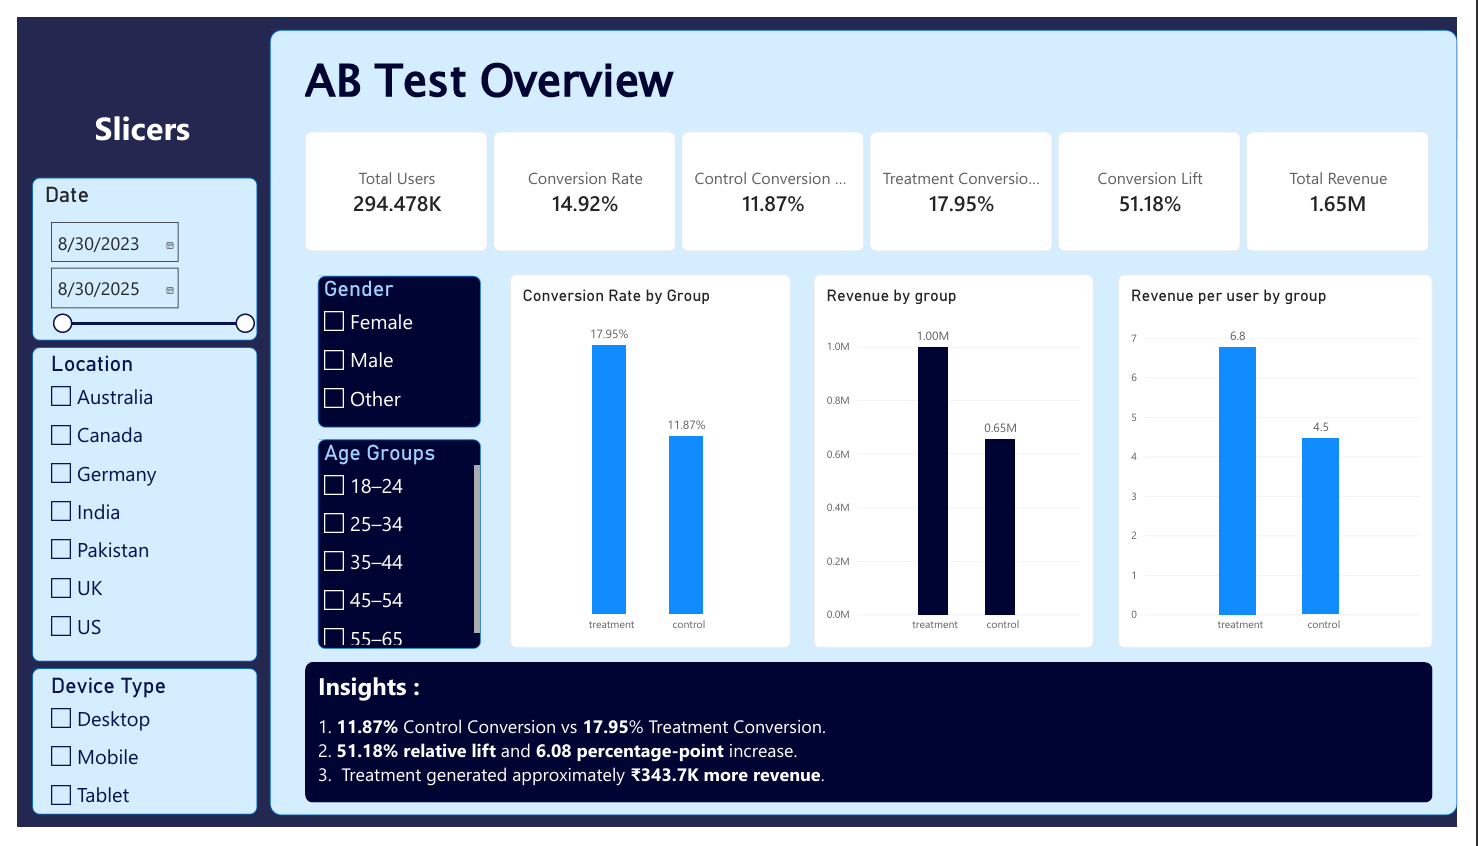

The dashboard page shown, as its layout file describes it:
{"tool":"powerbi","page":{"name":"AB Test Overview","canvas":[1920,1080],"ordinal":0},"visuals":[{"type":"shape","box":[336.2,15.9,1583.1,1047.1],"z":0},{"type":"textbox","box":[382.9,40.4,499.7,93.1],"z":1000},{"type":"cardVisual","fields":{"Data":["Count(AB Testing Data.user_id)","AB Testing Data.Conversion Rate","AB Testing Data.Control Conversion Rate","AB Testing Data.Treatment Conversion Rate","AB Testing Data.Conversion Lift","Sum(AB Testing Data.purchase_amount)"]},"box":[382.9,152.2,1503,159.3],"z":2000},{"type":"clusteredColumnChart","title":"Conversion Rate by Group","fields":{"Category":["AB Testing Data.group"],"Y":["AB Testing Data.Conversion Rate"]},"box":[656.4,342.5,373.4,497],"z":3000},{"type":"clusteredColumnChart","title":"Revenue by group","fields":{"Category":["AB Testing Data.group"],"Y":["Sum(AB Testing Data.purchase_amount)"]},"box":[1060.7,342.5,373.4,497],"z":4000},{"type":"clusteredColumnChart","fields":{"Category":["AB Testing Data.group"],"Y":["AB Testing Data.Revenue per user"]},"box":[1467.4,342.5,418.6,497],"z":5000},{"type":"shape","box":[400.4,343.7,216.4,202.1],"z":6000},{"type":"shape","box":[19,213.3,299.7,216.4],"z":7000},{"type":"slicer","fields":{"Values":["AB Testing Data.gender"]},"box":[400.4,343.7,178.4,202.1],"z":8000},{"type":"shape","box":[400.4,562.5,216.4,278.3],"z":9000},{"type":"slicer","fields":{"Values":["AB Testing Data.Age Group"]},"box":[400.4,562.5,216.4,273.5],"z":10000},{"type":"slicer","title":"Date","fields":{"Values":["AB Testing Data.date"]},"box":[35.7,218,283,216.4],"z":11000},{"type":"shape","box":[19,867.1,299.7,195],"z":12000},{"type":"shape","box":[19,439.4,299.7,418.6],"z":13000},{"type":"slicer","fields":{"Values":["AB Testing Data.location"]},"box":[35.7,443.7,299.7,418.6],"z":14000},{"type":"slicer","fields":{"Values":["AB Testing Data.device_type"]},"box":[35.7,872.6,299.7,195],"z":15000},{"type":"textbox","box":[102.3,116.5,166.5,71.3],"z":16000},{"type":"shape","box":[382.9,858.5,1503,187.9],"z":16001},{"type":"textbox","box":[399.5,868,304.4,59.5],"z":16002},{"type":"textbox","box":[399.5,927.5,1460.2,118.9],"z":16003}]}

Visuals, with their boxes in screenshot pixels (x1, y1, x2, y2), scaled from the page's 1920x1080 canvas onto the 1478x846 screenshot:
shape: (259, 12, 1477, 833)
textbox: (295, 32, 679, 105)
cardVisual - Count(AB Testing Data.user_id) x AB Testing Data.Conversion Rate: (295, 119, 1452, 244)
"Conversion Rate by Group" clusteredColumnChart: (505, 268, 793, 658)
"Revenue by group" clusteredColumnChart: (817, 268, 1104, 658)
clusteredColumnChart - AB Testing Data.group x AB Testing Data.Revenue per user: (1130, 268, 1452, 658)
shape: (308, 269, 475, 428)
shape: (15, 167, 245, 337)
slicer - AB Testing Data.gender: (308, 269, 446, 428)
shape: (308, 441, 475, 659)
slicer - AB Testing Data.Age Group: (308, 441, 475, 655)
"Date" slicer: (27, 171, 245, 340)
shape: (15, 679, 245, 832)
shape: (15, 344, 245, 672)
slicer - AB Testing Data.location: (27, 348, 258, 675)
slicer - AB Testing Data.device_type: (27, 684, 258, 836)
textbox: (79, 91, 207, 147)
shape: (295, 672, 1452, 820)
textbox: (308, 680, 542, 727)
textbox: (308, 727, 1432, 820)
